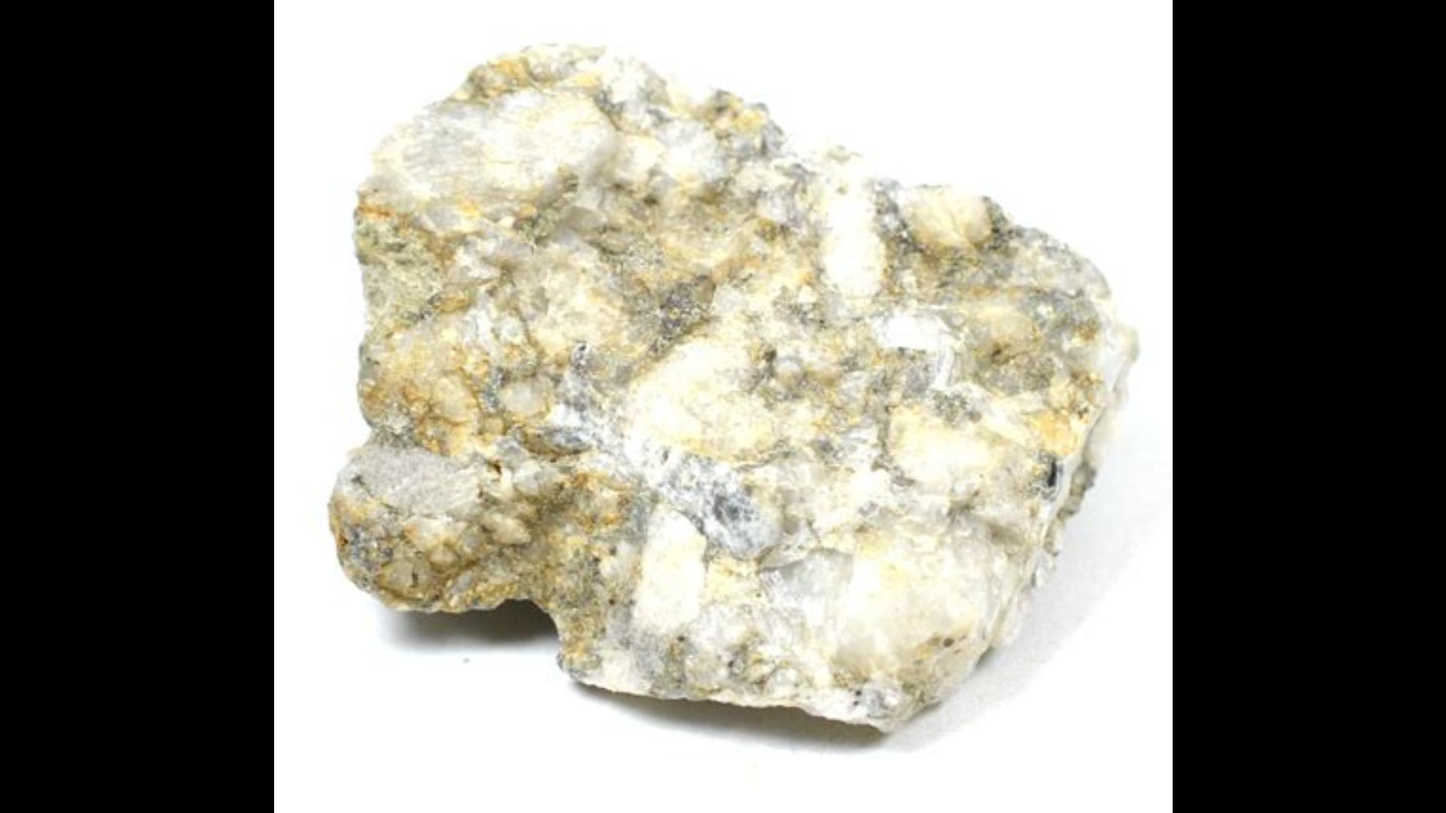rock: (330, 49, 1130, 726)
